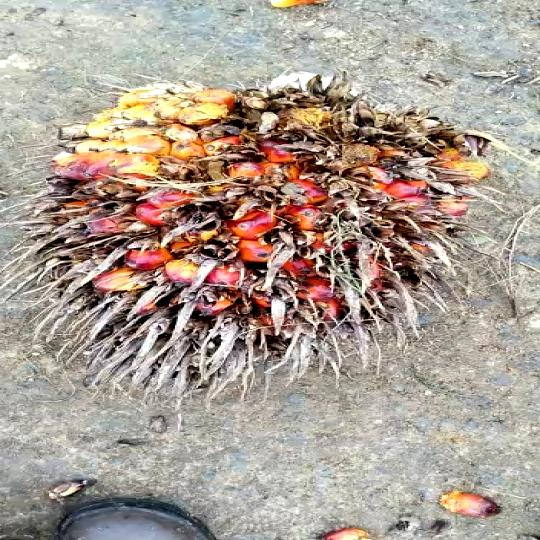terlalu masak: (28, 74, 491, 386)
